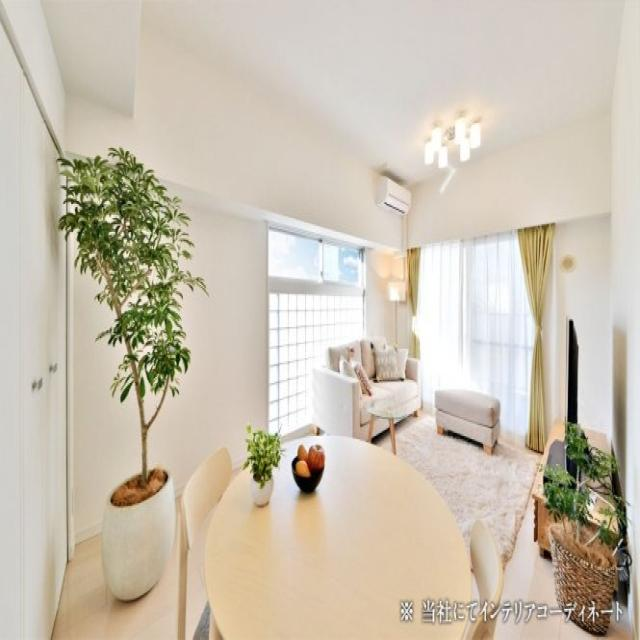natural chair: (434, 378, 498, 450)
natural desk: (202, 431, 472, 640)
natural sofa: (311, 334, 423, 430)
